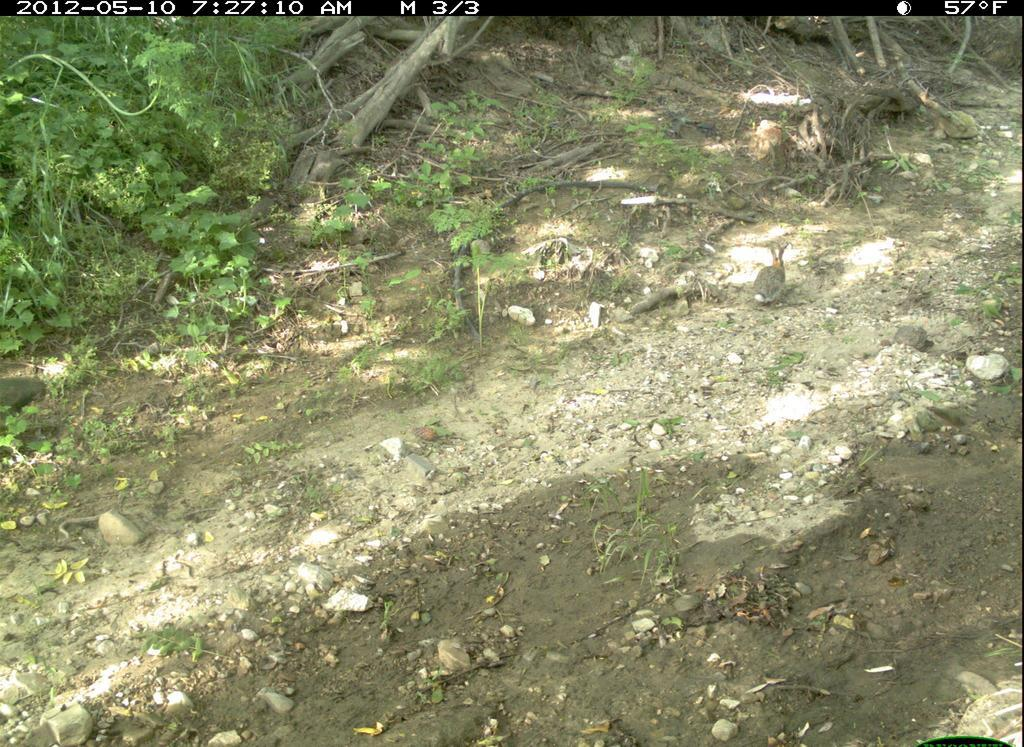rabbit: (753, 239, 794, 312)
